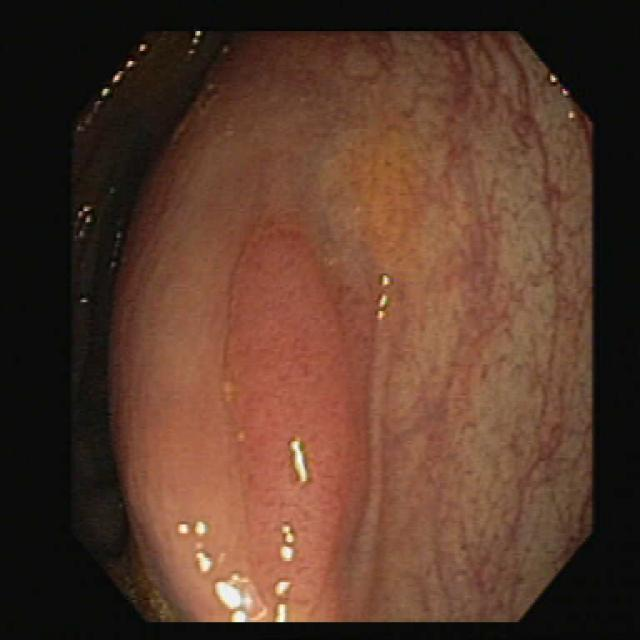tumor: (225, 224, 350, 598)
